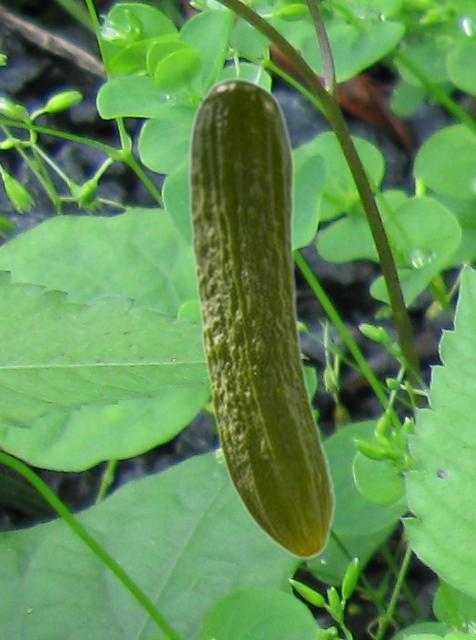cucumber: (187, 76, 335, 560)
